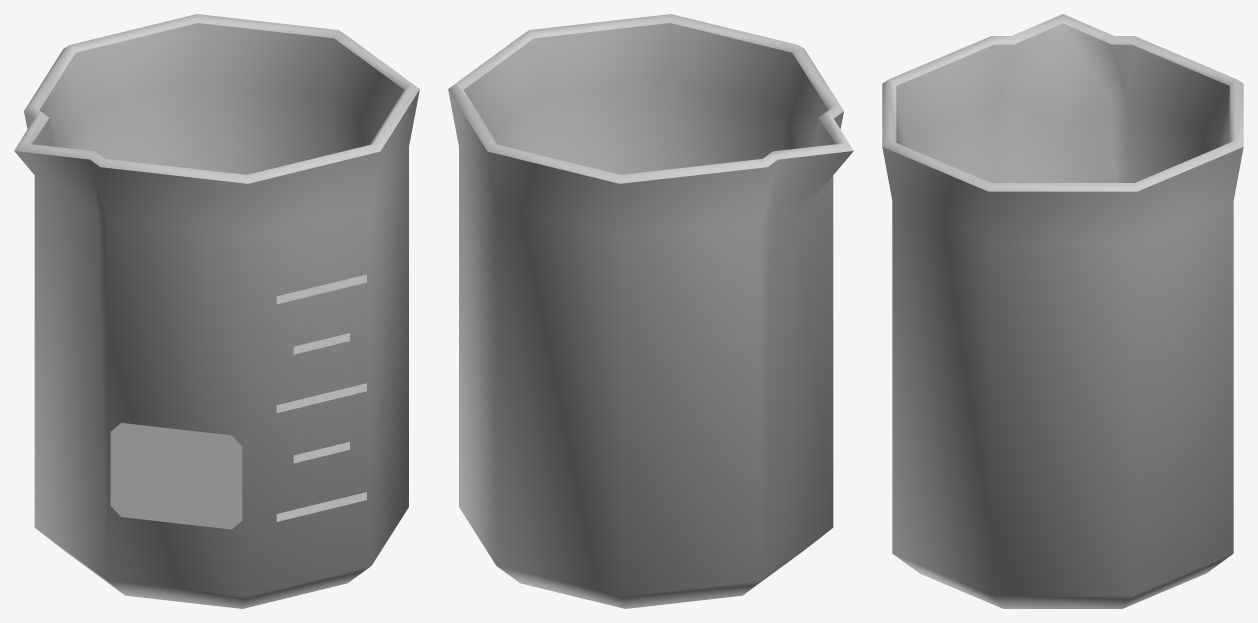
Rendered from CR_sci_Beaker_001_al.FBX.
The picture shows the model from 3 angles, left to right: view 1: azimuth 30°, elevation 25°; view 2: azimuth 150°, elevation 25°; view 3: azimuth 270°, elevation 25°; orthographic projection. The views are drawn at different scales.
Parts seen in each view (by area): view 1: CR_sci_Beaker_001_al, CR_sci_Beaker_001; view 2: CR_sci_Beaker_001_al; view 3: CR_sci_Beaker_001_al.
Part boxes in pixels (x1,y1,x2,y2): CR_sci_Beaker_001_al: [14, 14, 419, 608]; CR_sci_Beaker_001: [110, 274, 366, 529]; CR_sci_Beaker_001_al: [448, 14, 853, 608]; CR_sci_Beaker_001_al: [882, 14, 1243, 608].
Size of the model in its own units: 7.83 by 9.12 by 6.81.
